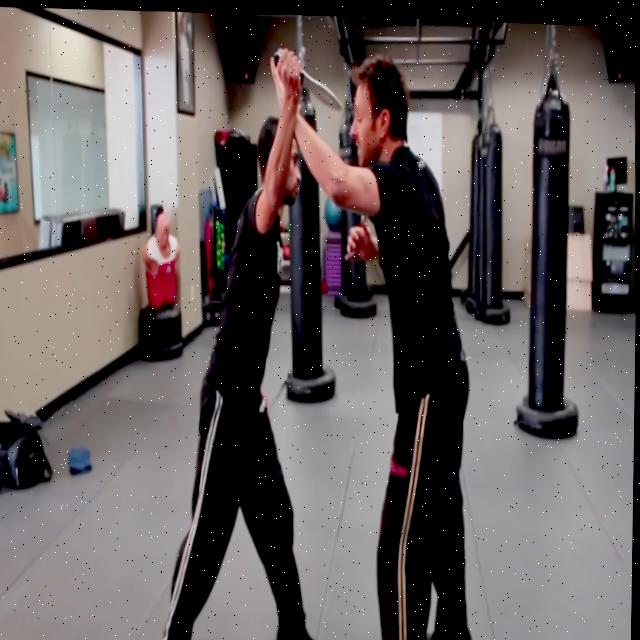knife: (297, 64, 342, 109)
